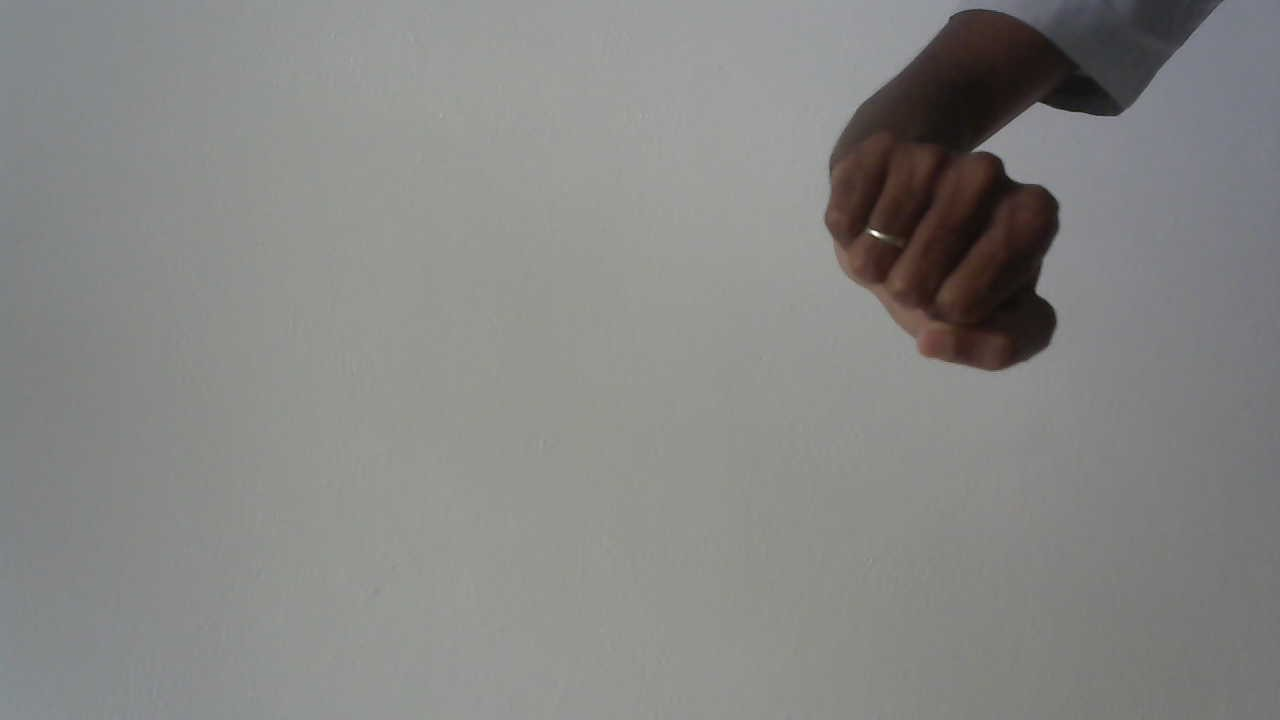yes: (812, 129, 1093, 387)
